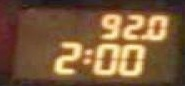-: (138, 32, 147, 41)
0: (118, 42, 145, 76), (92, 40, 117, 76), (147, 11, 168, 40)
2: (50, 37, 81, 77), (122, 10, 143, 40)
9: (96, 10, 120, 40)
X: (82, 45, 92, 66)
